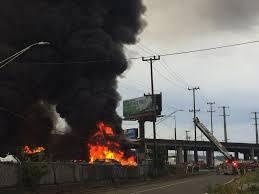fire: (85, 122, 139, 165), (23, 143, 46, 153)
